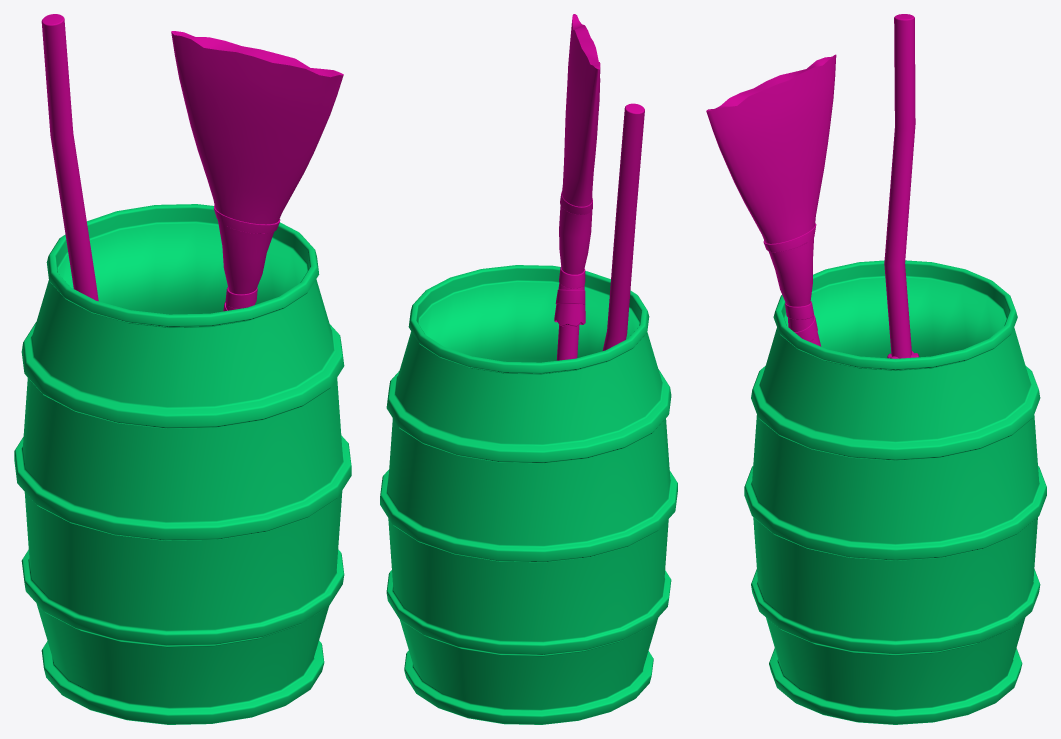
File: SM_Broom_Barrel_2_01.fbx
3 views of the same model, side by side, from view 1: azimuth 30°, elevation 25°; view 2: azimuth 150°, elevation 25°; view 3: azimuth 270°, elevation 25° (orthographic). The views are drawn at different scales.
Visible parts, largest first — view 1: polySurface106; view 2: polySurface106; view 3: polySurface106.
Part boxes in pixels (x1=…): polySurface106: x1=14, y1=14, x2=351, y2=724; polySurface106: x1=380, y1=14, x2=677, y2=724; polySurface106: x1=706, y1=14, x2=1046, y2=724.
Size of the model in its own units: 74.44 by 164 by 83.87.
